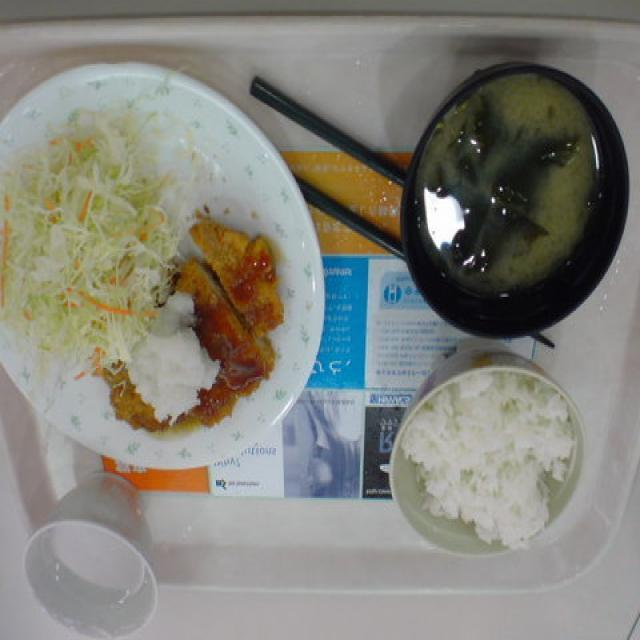Green Salad: (11, 152, 150, 346)
Rice: (428, 390, 550, 528)
